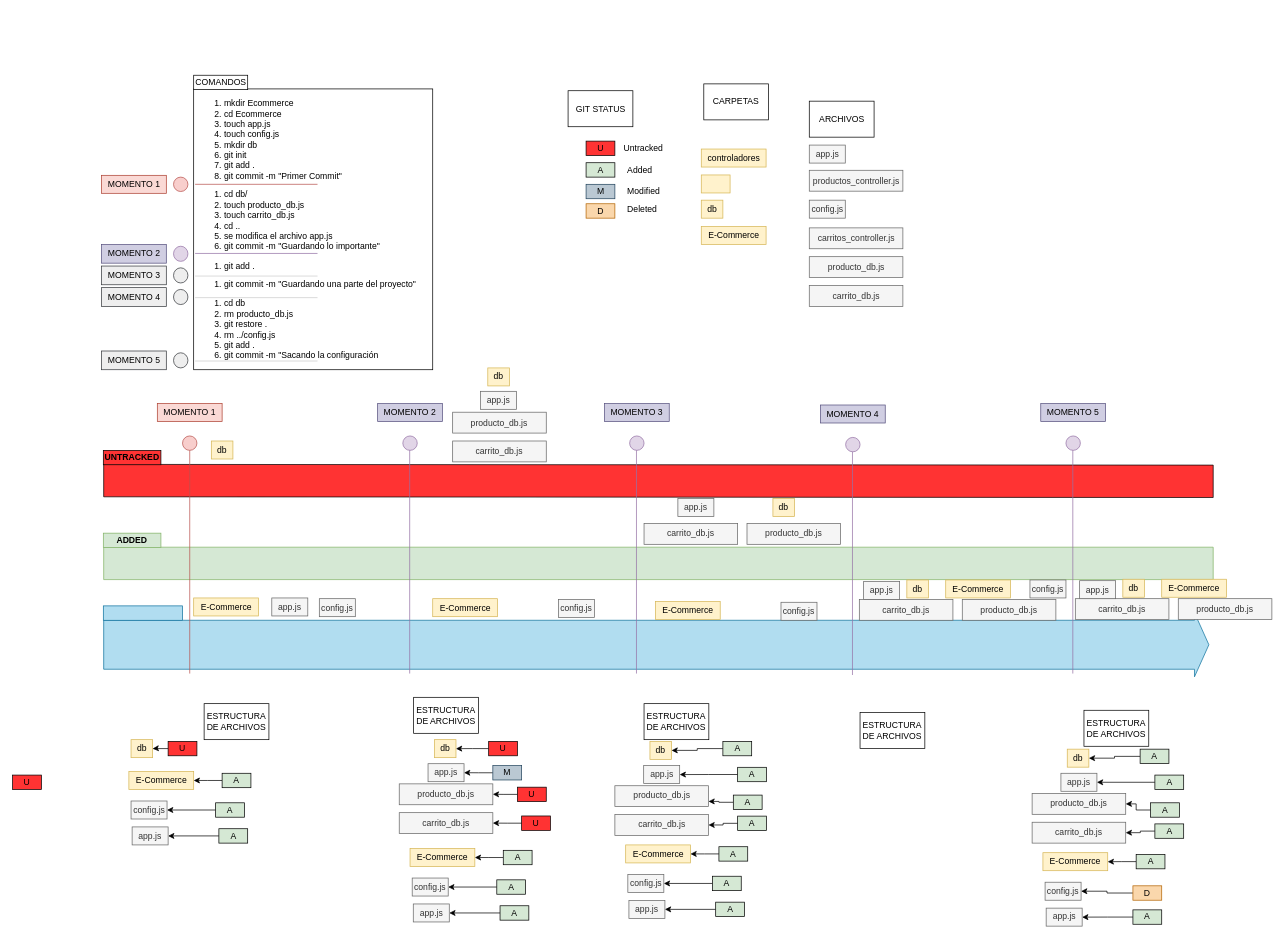
The diagram is 1284 pixels wide and 939 high, and some of its shapes have lost their labels. Here are the shapes that lost their labels. From the top down, the box of each, then its label:
(701, 174, 730, 193): rutas
(103, 605, 183, 620): RAMA PRINCIPAL
